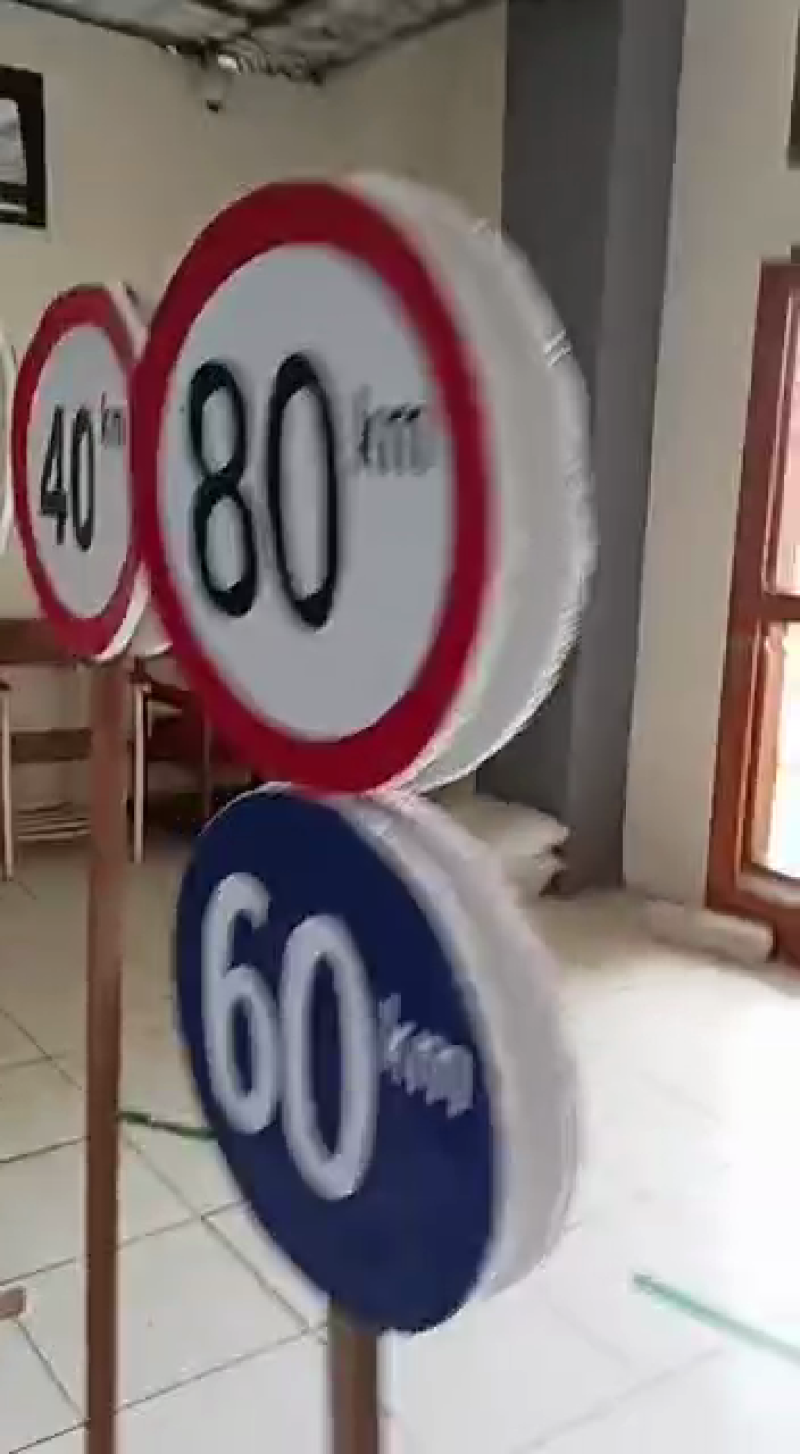batas maksimal 40kmperjam: (1, 270, 176, 679)
batas maksimal 80kmperjam minimal 60kmperjam: (144, 190, 537, 1340)
